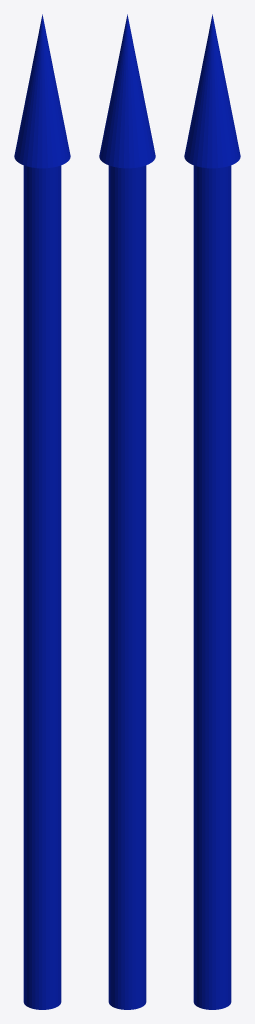
The model's file is gizmoBlue.obj.
3 views of the same model, side by side, from view 1: azimuth 90°, elevation 25°; view 2: azimuth 150°, elevation 25°; view 3: azimuth 270°, elevation 25° (orthographic).
Visible parts, largest first — view 1: Cylinder; view 2: Cylinder; view 3: Cylinder.
Part boxes in pixels (left/top/right/bottom): Cylinder: left=14, top=14, right=70, bottom=1009; Cylinder: left=99, top=14, right=155, bottom=1009; Cylinder: left=184, top=14, right=240, bottom=1009.
Bounding box in the file's own units: 0.0318 × 0.6141 × 0.0318.
